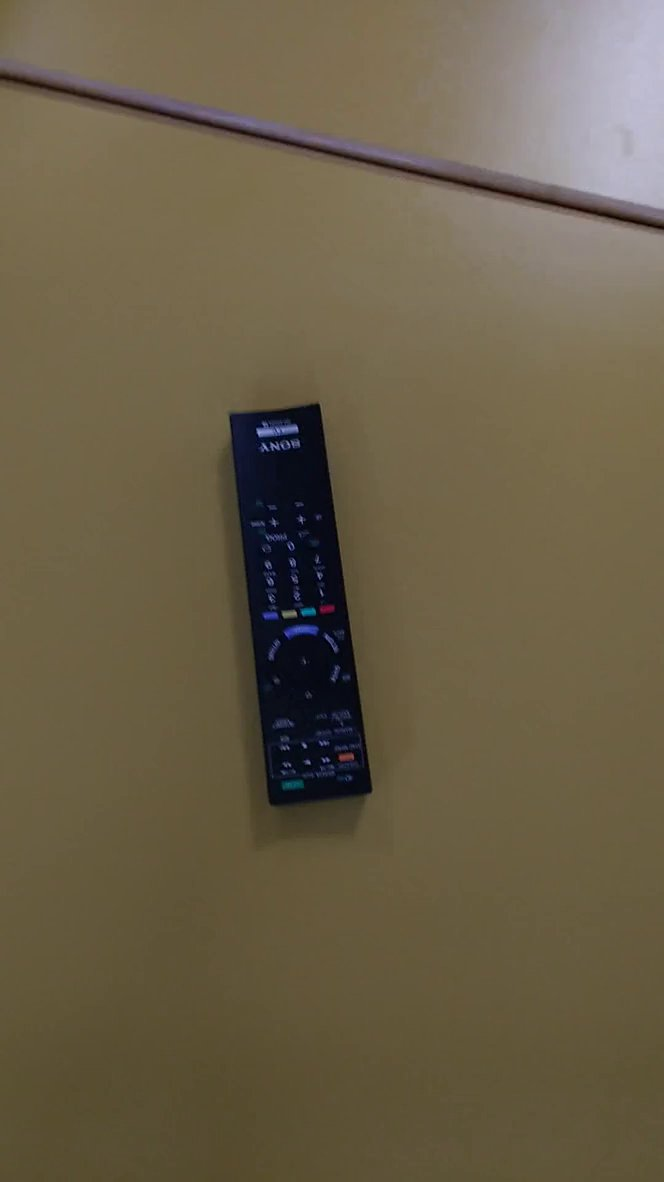remote: (208, 388, 383, 836)
